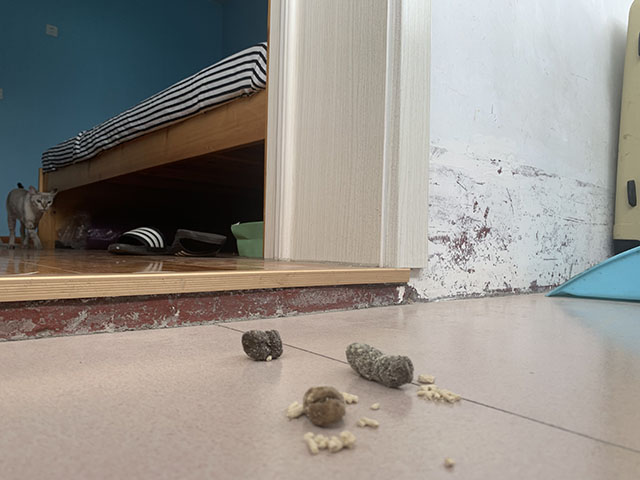bed: (37, 1, 271, 260)
feces: (345, 341, 416, 390), (300, 383, 347, 429), (241, 328, 284, 363)
slippers: (110, 226, 172, 259)
